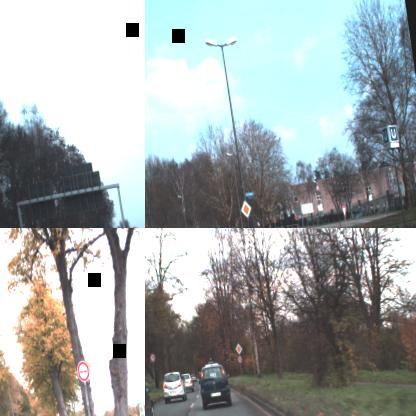give way: (342, 206, 348, 218)
no overtaking (trucks): (76, 358, 90, 381)
priority road: (238, 198, 252, 219), (233, 342, 242, 354)
speed limit 70: (148, 352, 156, 362), (235, 353, 242, 364)
